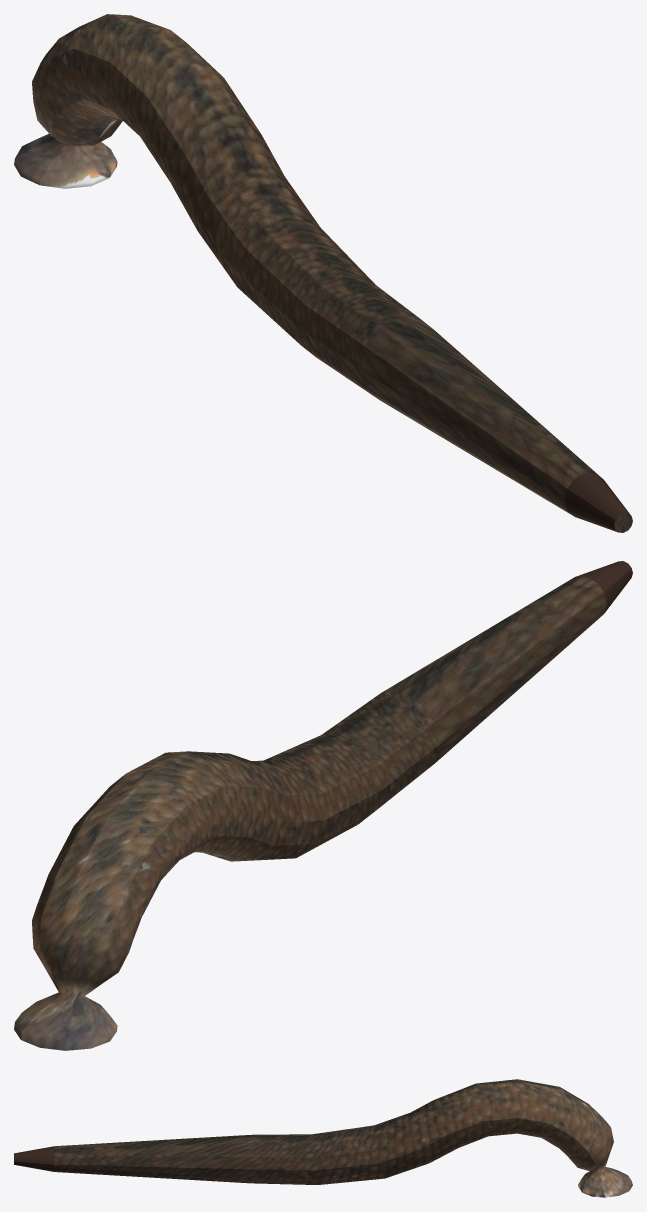
Rendered from Leech.fbx.
3 renders of one model, top to bottom at view 1: azimuth 30°, elevation 25°; view 2: azimuth 150°, elevation 25°; view 3: azimuth 270°, elevation 25°, orthographic. The views are drawn at different scales.
Visible parts, largest first — view 1: Leech; view 2: Leech; view 3: Leech.
Part boxes in pixels (x1,y1,x2,y2): Leech: [14, 14, 632, 532]; Leech: [14, 561, 632, 1050]; Leech: [14, 1079, 632, 1197].
Size of the model in its own units: 2.52 by 5.36 by 28.54.
1 material, 1 textured.
